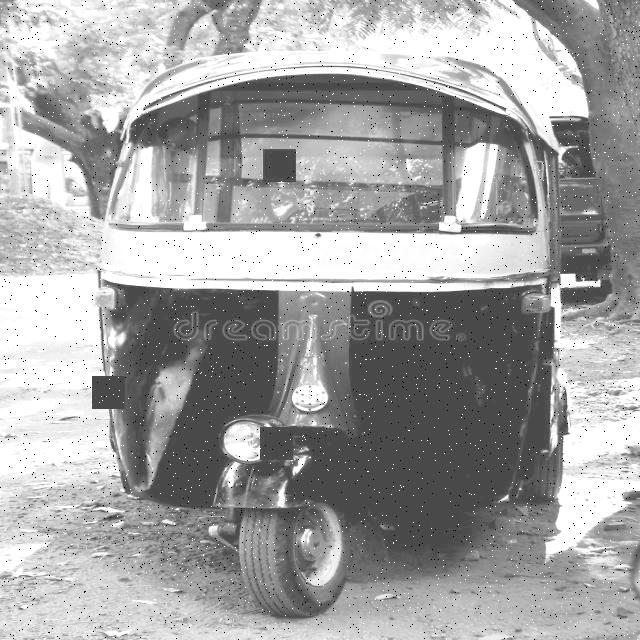Auto-Rickshaw: (88, 39, 588, 611)
